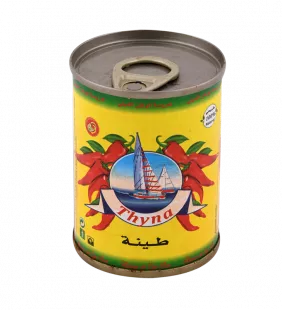THYNA: (60, 20, 236, 284)
